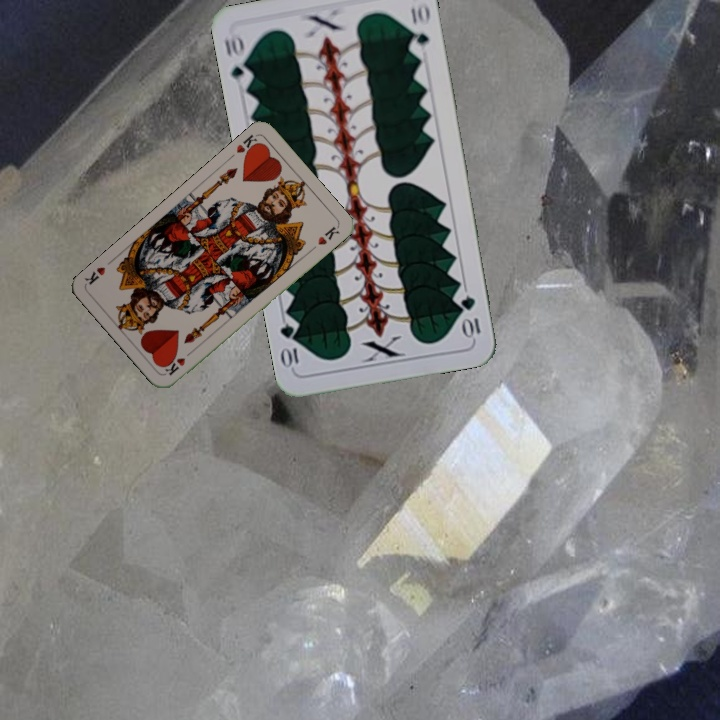G10: (220, 29, 255, 89), (457, 292, 483, 341)
HK: (161, 346, 196, 378), (232, 130, 263, 159)
